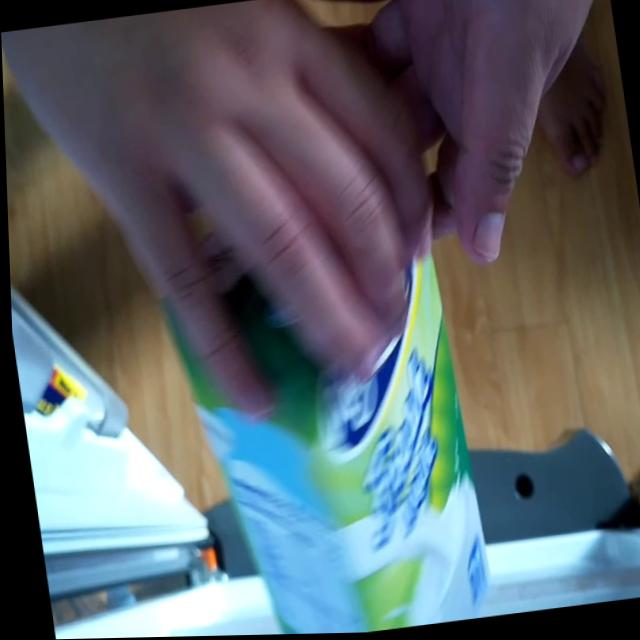milk: (141, 104, 492, 638)
